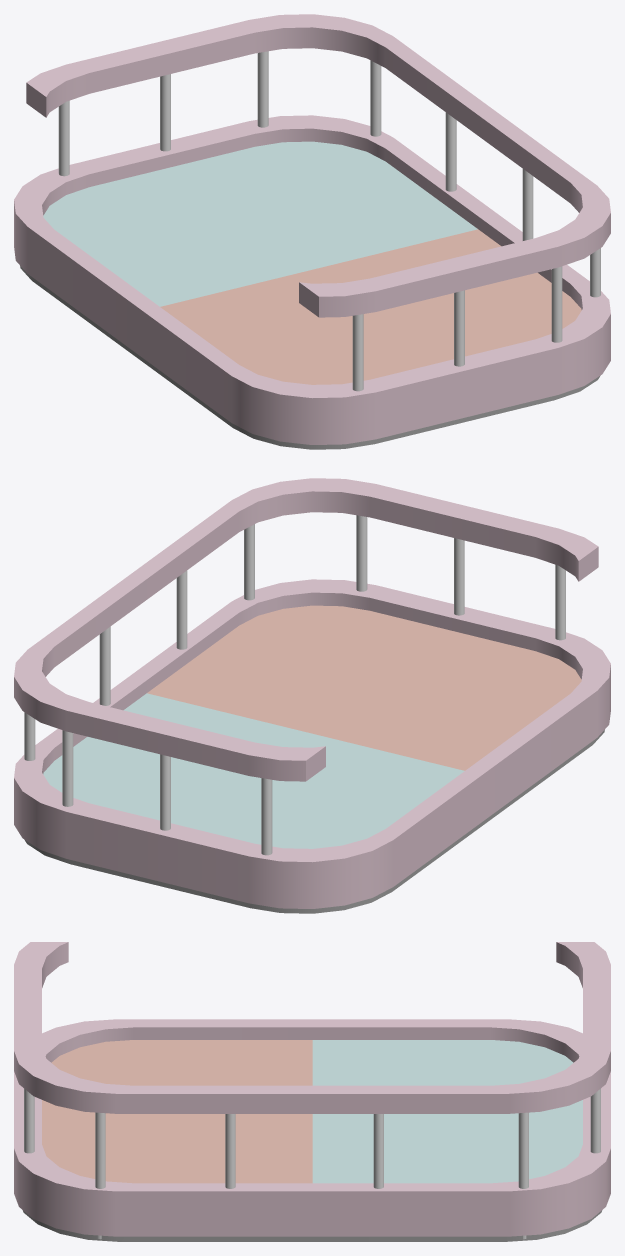
File: eeAa.fbx
3 renders of one model, top to bottom at view 1: azimuth 30°, elevation 25°; view 2: azimuth 150°, elevation 25°; view 3: azimuth 270°, elevation 25°, orthographic. The views are drawn at different scales.
Parts seen in each view (by area): view 1: group5_pasted__pPipe1; view 2: group5_pasted__pPipe1; view 3: group5_pasted__pPipe1.
Part boxes in pixels (x1=…): group5_pasted__pPipe1: x1=14, y1=14, x2=610, y2=449; group5_pasted__pPipe1: x1=14, y1=478, x2=610, y2=913; group5_pasted__pPipe1: x1=14, y1=942, x2=610, y2=1241.
Size of the model in its own units: 8.15 by 3.3 by 11.95.
